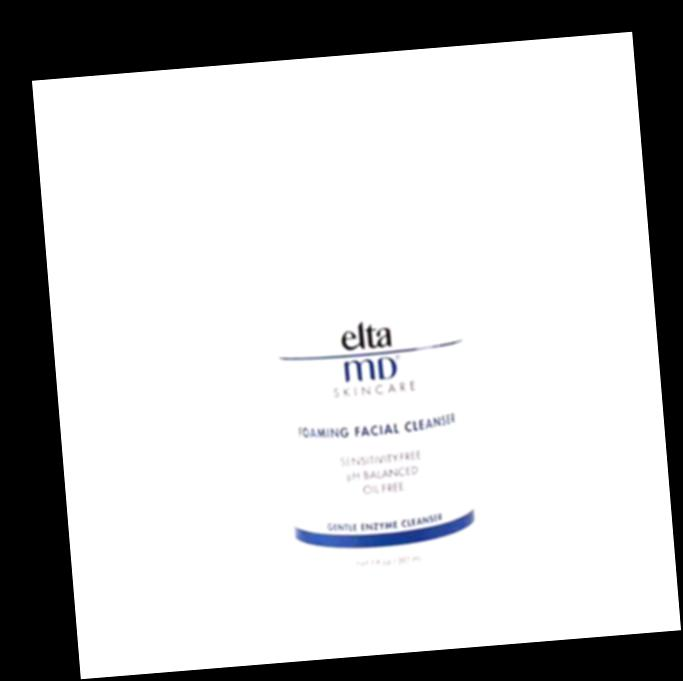cosmetic: (264, 98, 485, 610)
